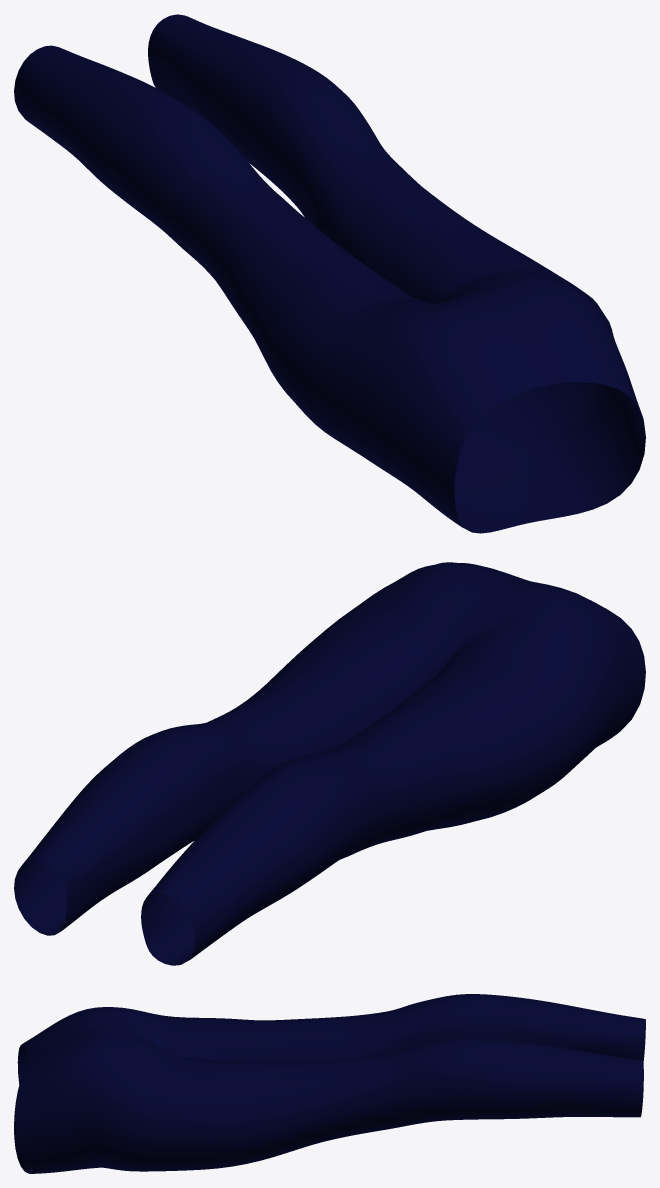
Rendered from simulated_cloth.obj.
The picture shows the model from 3 angles, top to bottom: view 1: azimuth 30°, elevation 25°; view 2: azimuth 150°, elevation 25°; view 3: azimuth 270°, elevation 25°; orthographic projection. The views are drawn at different scales.
Parts seen in each view (by area): view 1: Cloth; view 2: Cloth; view 3: Cloth.
Boxes of the visible parts, x1,y1,x2,y2 form: Cloth: [14, 14, 645, 533]; Cloth: [14, 562, 645, 965]; Cloth: [14, 994, 645, 1173].
Bounding box in the file's own units: 0.9275 × 0.6515 × 2.63.
